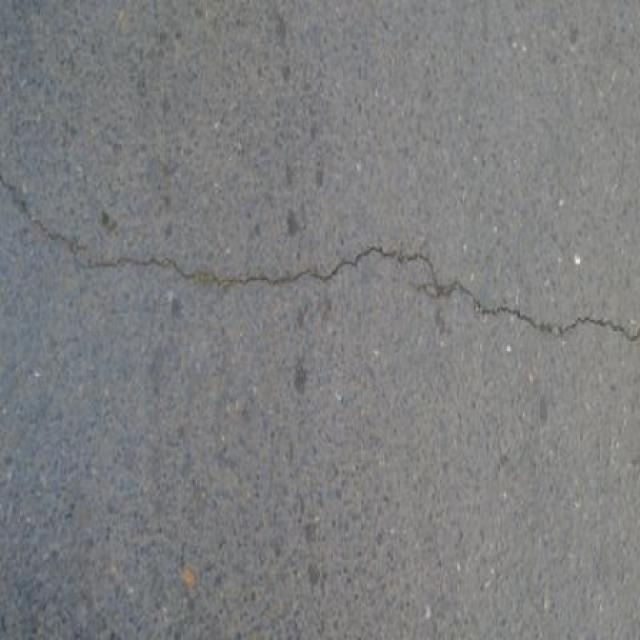Alligator Crack: (0, 169, 640, 344)
